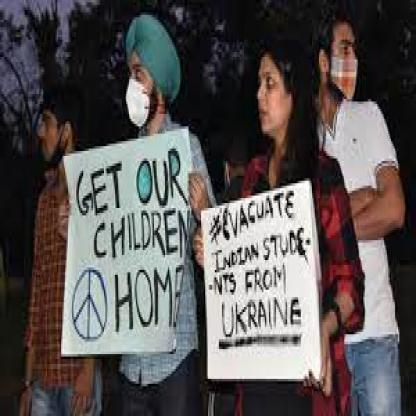BANNER: (61, 129, 327, 391)
